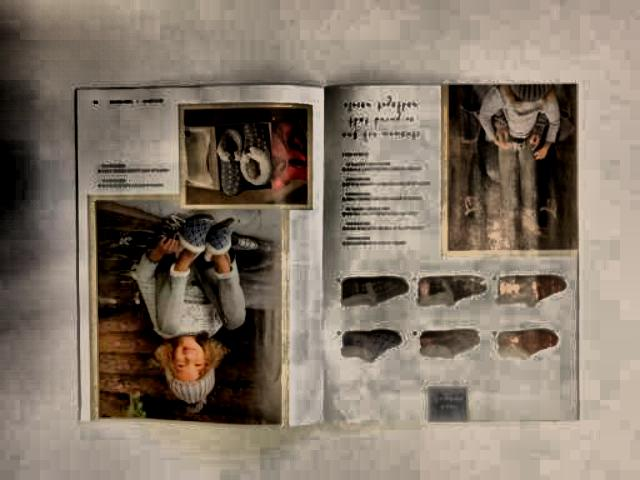Paper: (70, 76, 576, 438)
